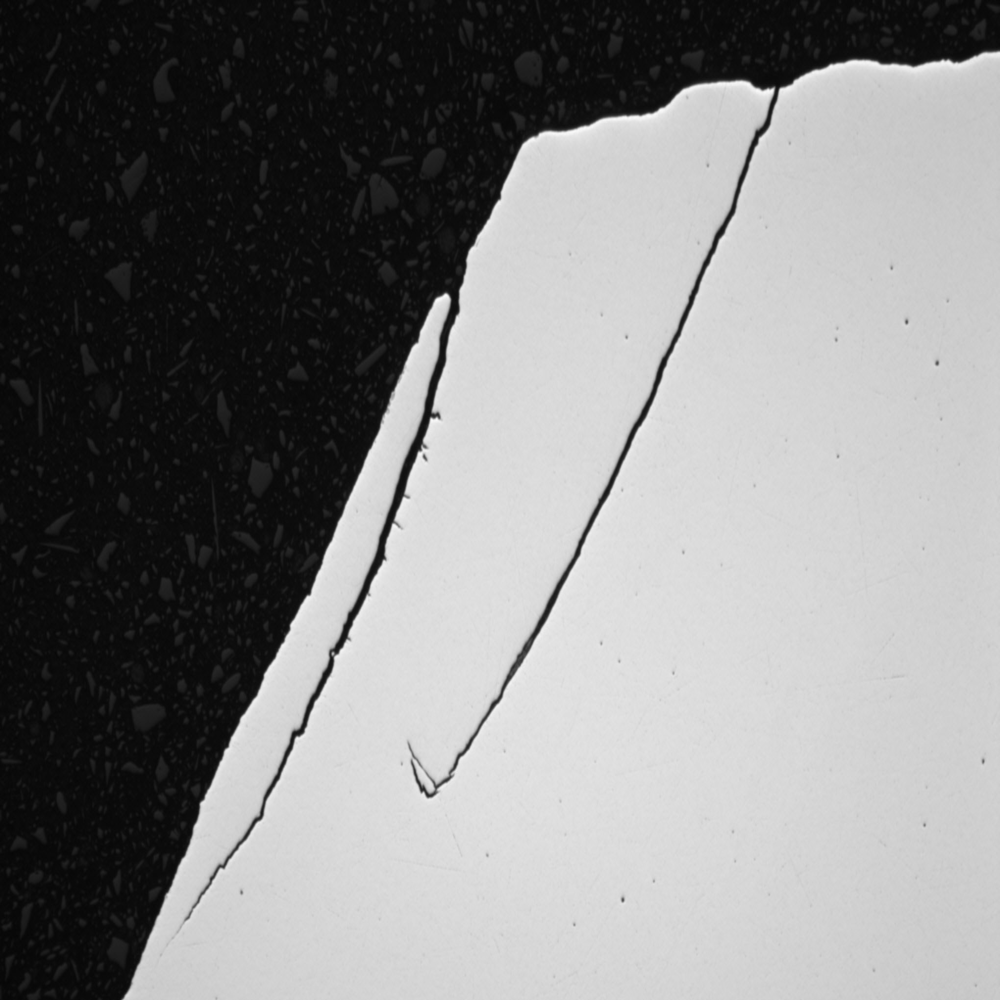crack: (406, 78, 790, 850), (156, 263, 481, 966)
